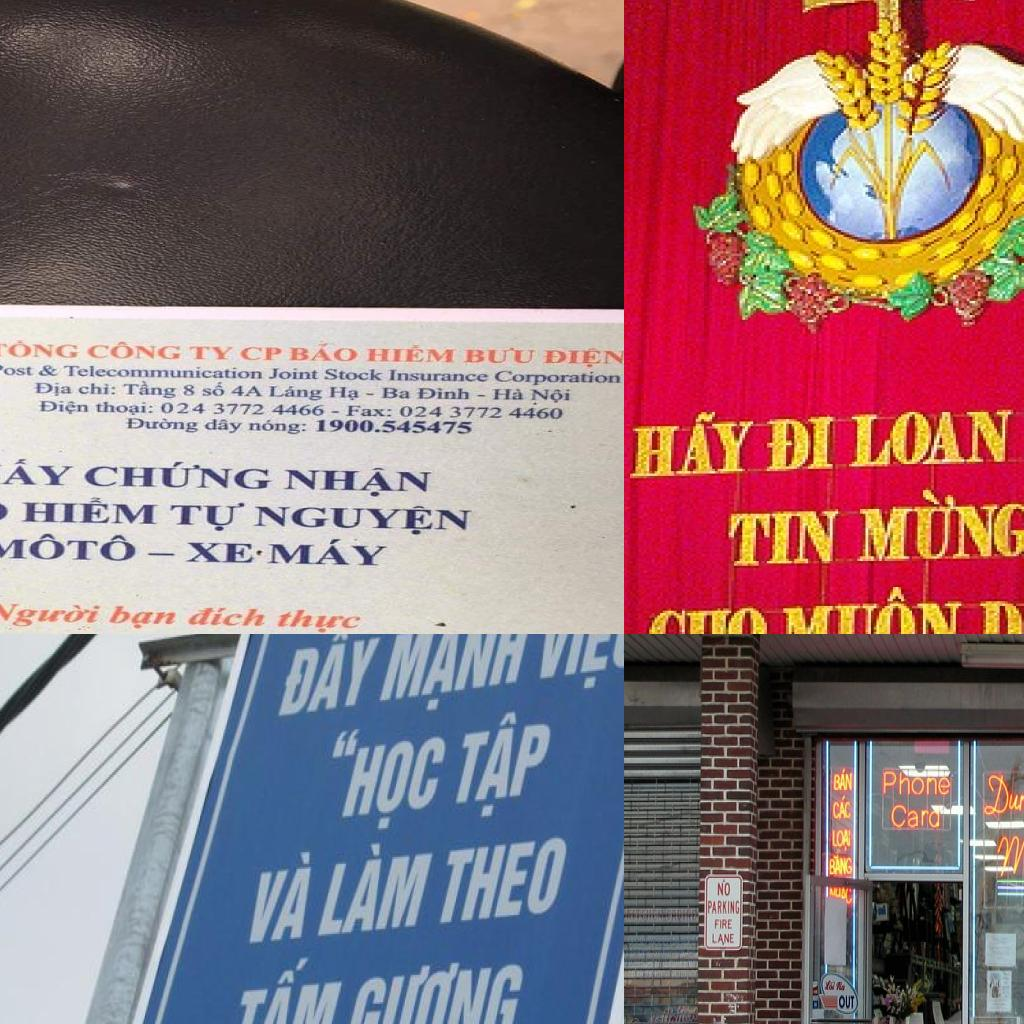text: (313, 720, 451, 835), (371, 634, 538, 717), (339, 954, 530, 1024), (430, 833, 572, 927), (311, 840, 441, 942), (851, 490, 1024, 565), (446, 709, 558, 823), (849, 408, 1016, 474), (270, 634, 389, 718), (624, 410, 758, 483), (777, 584, 972, 634), (221, 952, 353, 1024), (240, 847, 326, 947), (723, 504, 852, 570), (252, 503, 476, 537), (82, 460, 276, 492), (530, 634, 624, 696), (764, 412, 844, 478), (282, 466, 434, 500), (0, 530, 141, 564), (17, 495, 162, 528), (646, 601, 769, 634), (264, 538, 393, 568), (61, 364, 264, 382), (0, 601, 105, 630), (312, 419, 476, 436), (268, 607, 371, 634), (158, 402, 329, 418), (398, 405, 565, 421), (166, 501, 248, 533), (494, 369, 624, 388), (0, 456, 78, 487), (102, 604, 185, 631), (183, 606, 278, 629), (984, 774, 1024, 826), (86, 341, 184, 362), (541, 347, 624, 370), (363, 344, 458, 364), (182, 541, 258, 565), (883, 771, 952, 797), (0, 338, 81, 359), (286, 342, 360, 364), (386, 369, 491, 383), (462, 347, 539, 364), (122, 418, 200, 434), (891, 804, 942, 828), (246, 418, 310, 437), (121, 380, 179, 400), (997, 835, 1024, 876), (38, 399, 94, 418), (267, 384, 326, 402), (95, 400, 157, 417), (322, 367, 386, 382), (415, 386, 472, 402), (187, 345, 237, 362), (345, 404, 394, 420), (267, 367, 322, 381), (31, 381, 76, 398), (203, 418, 245, 436), (237, 346, 284, 362), (530, 388, 574, 404), (707, 899, 742, 917), (327, 385, 363, 402), (78, 382, 118, 397), (829, 854, 854, 878), (229, 384, 266, 400), (833, 767, 854, 793), (0, 362, 36, 377), (491, 387, 527, 402), (832, 827, 852, 853), (833, 795, 852, 821), (200, 381, 228, 398), (380, 386, 414, 400), (36, 364, 60, 378), (712, 933, 736, 946), (837, 996, 856, 1012), (717, 882, 733, 898), (714, 920, 734, 932), (181, 384, 198, 398)
